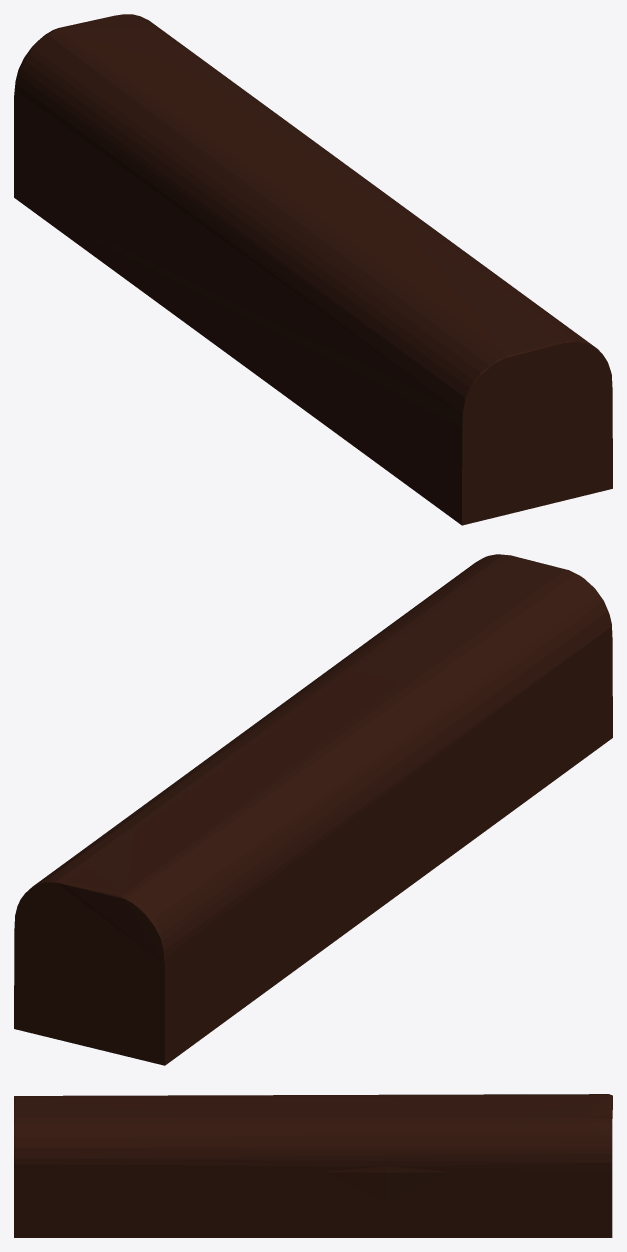
The model's file is twix.glb.
3 views of the same model, one above another, from view 1: azimuth 30°, elevation 25°; view 2: azimuth 150°, elevation 25°; view 3: azimuth 270°, elevation 25° (orthographic). The views are drawn at different scales.
Parts seen in each view (by area): view 1: twix; view 2: twix; view 3: twix.
Part boxes in pixels (x1,y1,x2,y2): twix: (14, 14, 612, 525); twix: (14, 554, 612, 1065); twix: (14, 1094, 612, 1237).
Size of the model in its own units: 0.0202 by 0.0203 by 0.1029.
